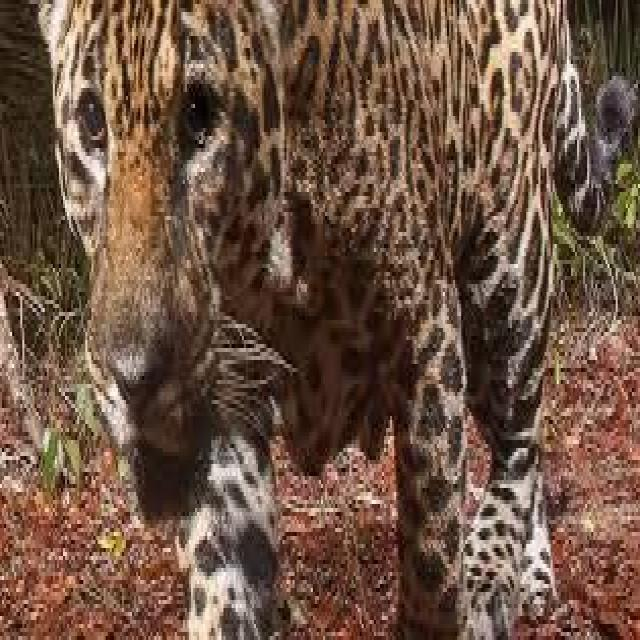Jaguar: (24, 12, 612, 628)
